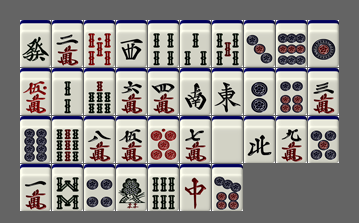0m: (20, 68, 51, 115)
0p: (148, 116, 179, 163)
0s: (84, 20, 115, 67)
1m: (20, 164, 51, 211)
1p: (308, 20, 339, 67)
1s: (116, 164, 147, 211)
1z: (212, 68, 243, 115)
2m: (52, 20, 83, 67)
2p: (244, 68, 275, 115)
2s: (52, 68, 83, 115)
2z: (180, 68, 211, 115)
3m: (308, 68, 339, 115)
3p: (244, 20, 275, 67)
3s: (180, 20, 211, 67)
3z: (116, 20, 147, 67)
4m: (148, 68, 179, 115)
4p: (84, 164, 115, 211)
4s: (148, 20, 179, 67)
4z: (244, 116, 275, 163)
5m: (116, 116, 147, 163)
5p: (308, 116, 339, 163)
5s: (212, 20, 243, 67)
5z: (212, 116, 243, 163)
6m: (116, 68, 147, 115)
6p: (276, 68, 307, 115)
6s: (148, 164, 179, 211)
6z: (20, 20, 51, 67)
7m: (180, 116, 211, 163)
7p: (212, 164, 243, 211)
7s: (84, 68, 115, 115)
7z: (180, 164, 211, 211)
8m: (84, 116, 115, 163)
8p: (20, 116, 51, 163)
8s: (52, 164, 83, 211)
9m: (276, 116, 307, 163)
9p: (276, 20, 307, 67)
9s: (52, 116, 83, 163)
